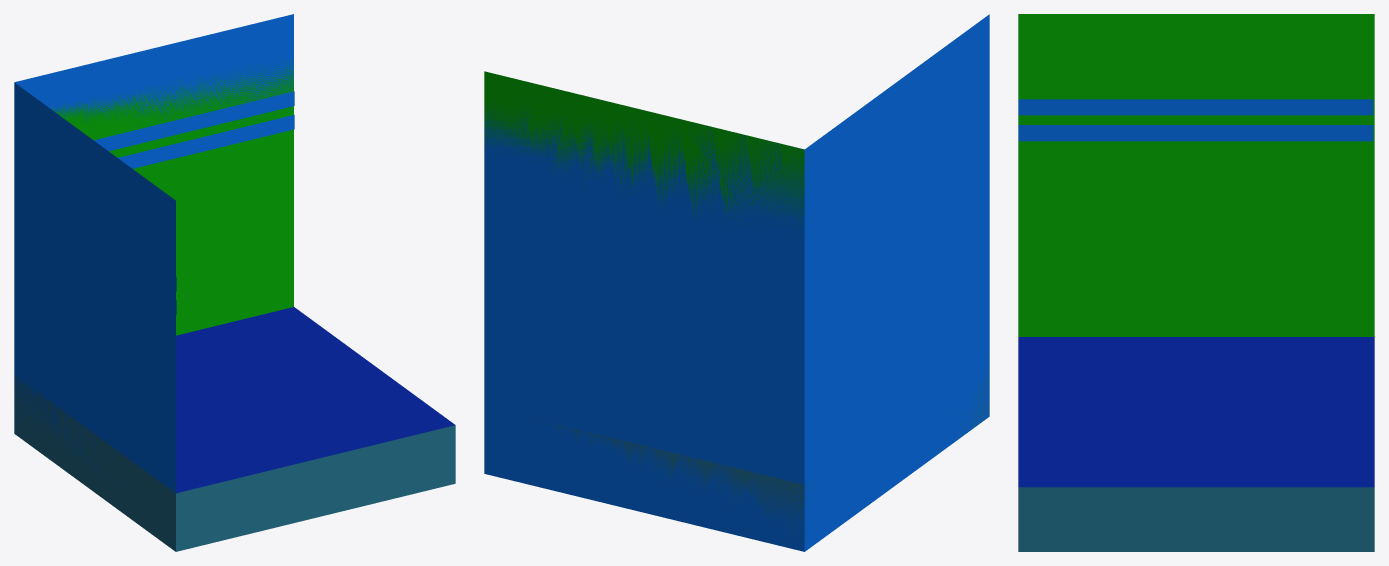
File: arcade_tile_wall_corner.fbx
3 renders of one model, left to right at view 1: azimuth 30°, elevation 25°; view 2: azimuth 150°, elevation 25°; view 3: azimuth 270°, elevation 25°, orthographic. The views are drawn at different scales.
Visible parts, largest first — view 1: wall_corner006, tile_floor, wall_backface043; view 2: wall_corner006, wall_backface043, tile_floor; view 3: wall_backface044, tile_floor, wall_corner006.
Part boxes in pixels (bbox=[...]): wall_corner006: bbox=[14, 14, 294, 498]; tile_floor: bbox=[14, 307, 455, 551]; wall_backface043: bbox=[52, 58, 293, 335]; wall_corner006: bbox=[484, 14, 989, 551]; wall_backface043: bbox=[484, 71, 804, 230]; tile_floor: bbox=[540, 354, 989, 542]; wall_backface044: bbox=[1018, 14, 1374, 336]; tile_floor: bbox=[1018, 337, 1374, 551]; wall_corner006: bbox=[1018, 99, 1373, 141].
Size of the model in its own units: 5 by 6 by 5.
